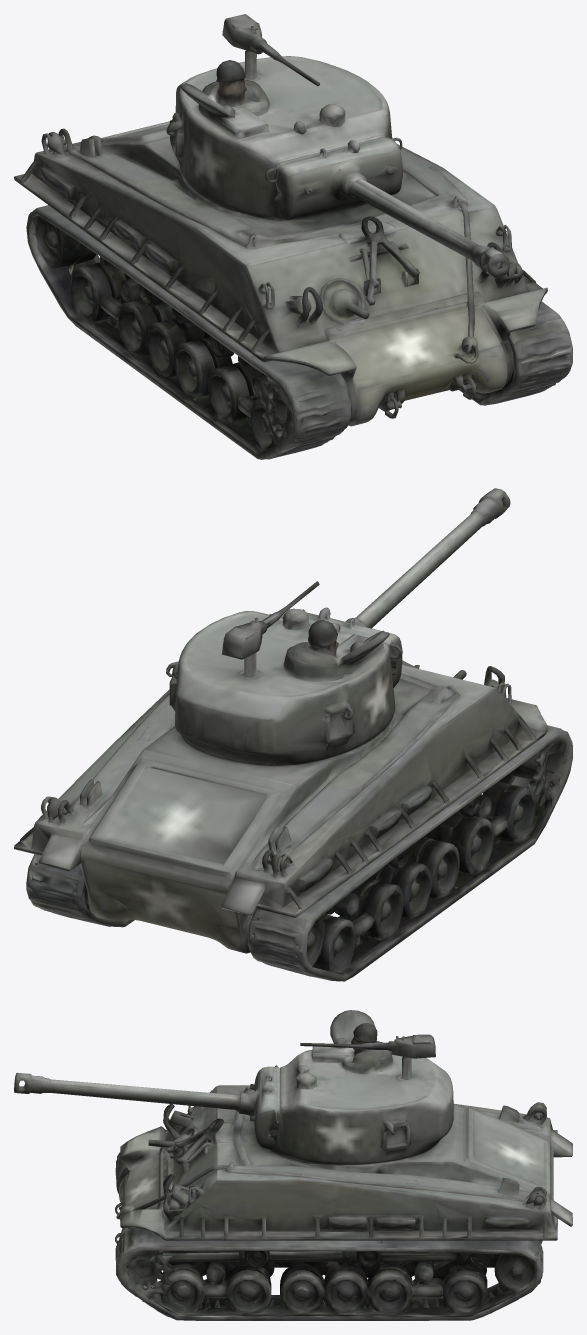
File: e8_opt.glb
3 views of the same model, one above another, from view 1: azimuth 30°, elevation 25°; view 2: azimuth 150°, elevation 25°; view 3: azimuth 270°, elevation 25° (orthographic). The views are drawn at different scales.
Parts seen in each view (by area): view 1: node_0; view 2: node_0; view 3: node_0.
Part boxes in pixels (bbox=[...]): node_0: bbox=[14, 14, 572, 459]; node_0: bbox=[14, 488, 572, 981]; node_0: bbox=[14, 1010, 572, 1320].
Size of the model in its own units: 0.5186 by 0.517 by 1.13.
1 material, 1 textured.
